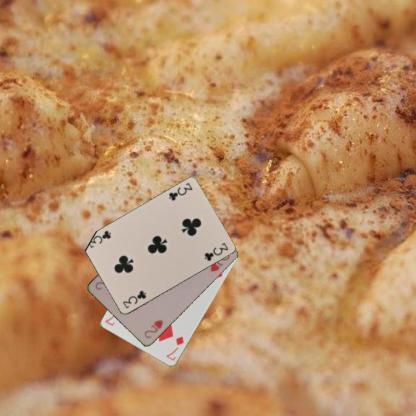2h: (142, 318, 164, 340)
3c: (121, 288, 148, 310), (166, 180, 193, 202)
7d: (163, 334, 185, 362)
